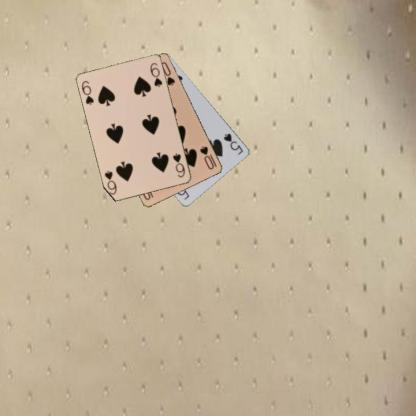10s: (198, 144, 218, 171)
5s: (222, 131, 244, 156)
6s: (79, 78, 95, 106), (170, 151, 186, 178)
